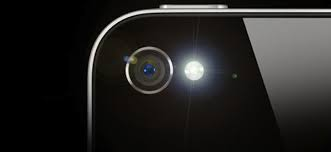flash: (183, 58, 210, 87)
lens: (116, 50, 178, 94)
